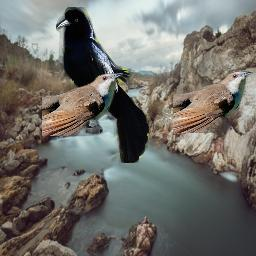Crow: (56, 7, 149, 163)
Cuckoo: (42, 73, 123, 136), (173, 71, 253, 133)
